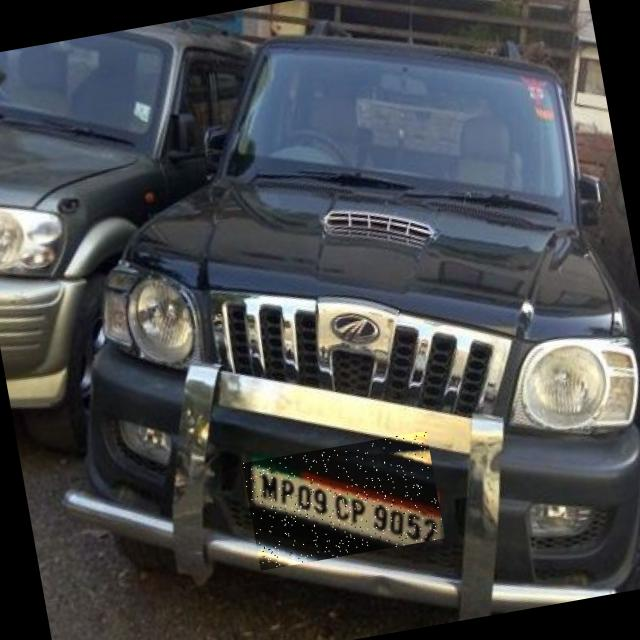Plate: (243, 431, 446, 571)
